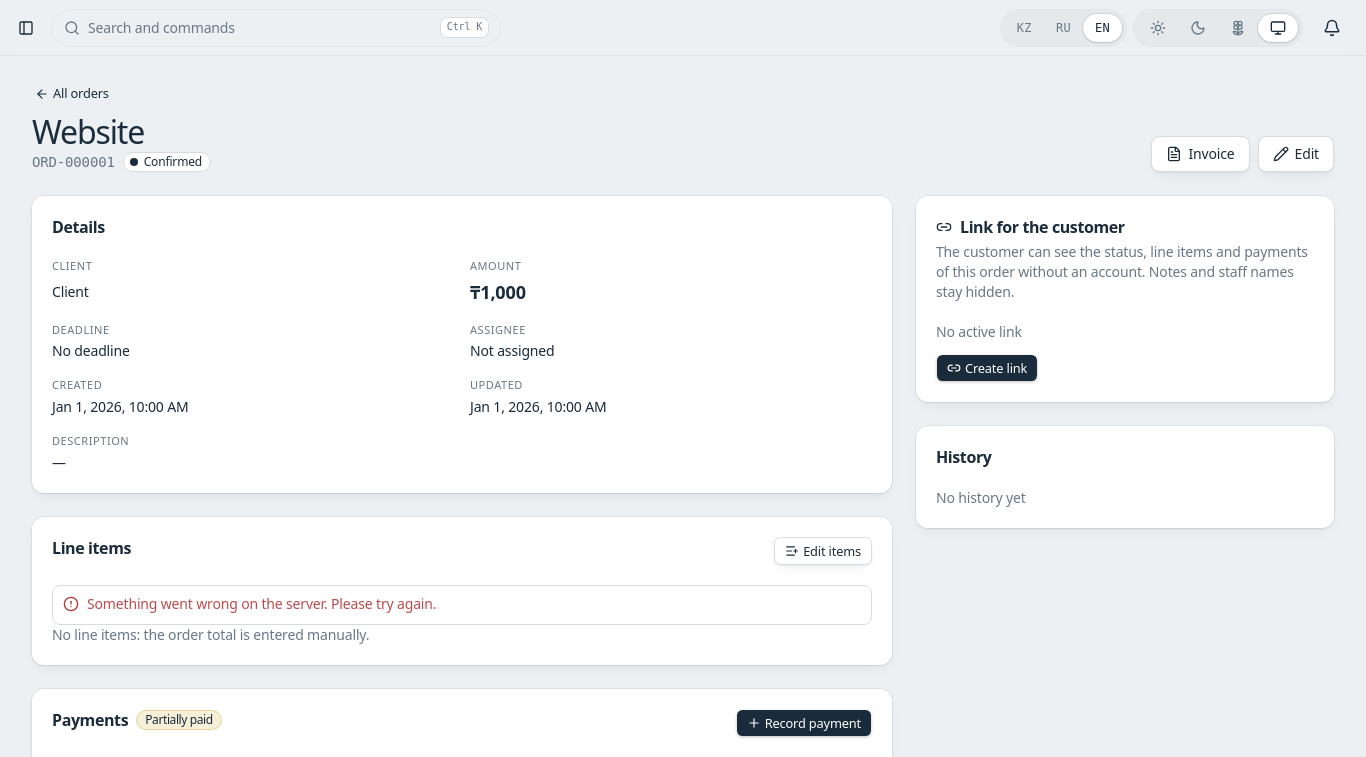
Scenario: payments on the order page › shows the translated overpayment error from the backend
The image size is (1366, 757).
Step 1. Click the button "Record payment" → (804,723), box [736,709,872,737]
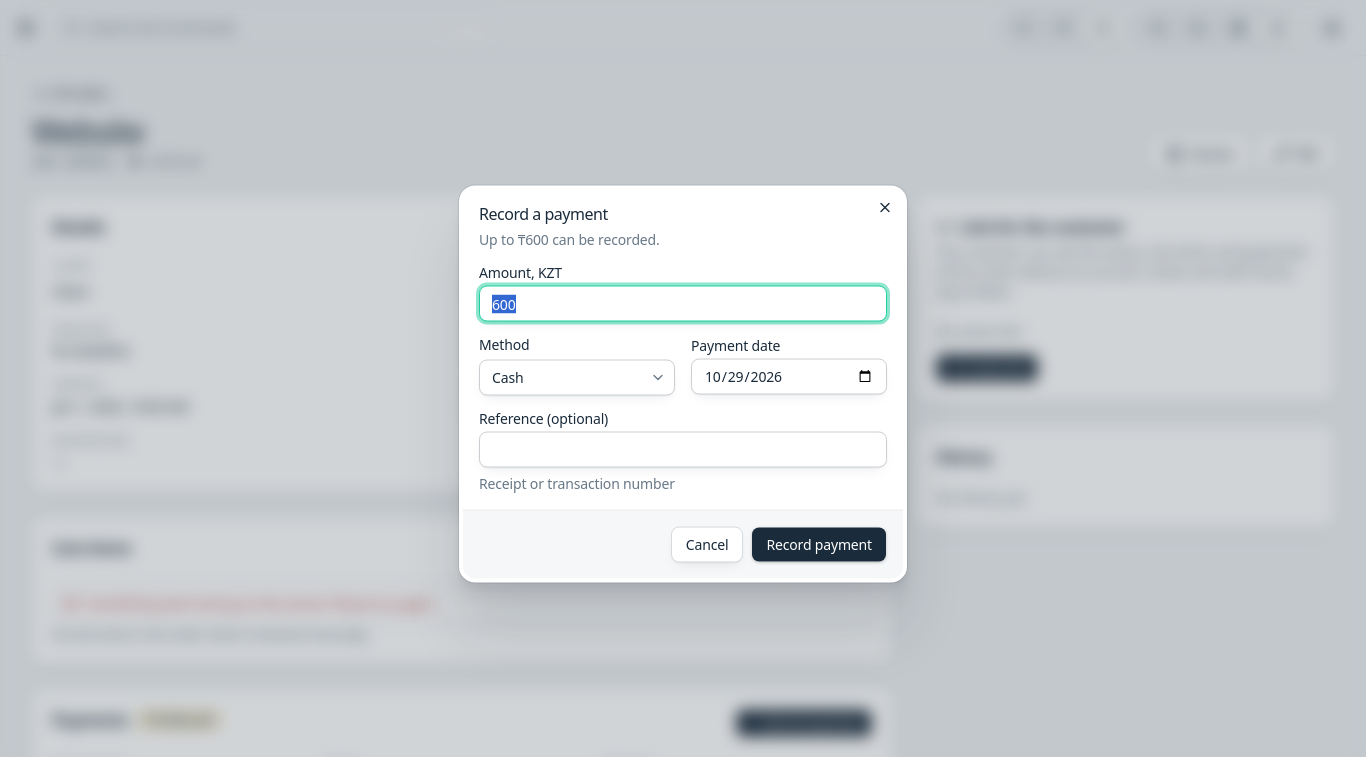
Step 2. Replace the text in the field labelled "Amount, KZT" with "700" → (683,304), box [479,286,887,322]
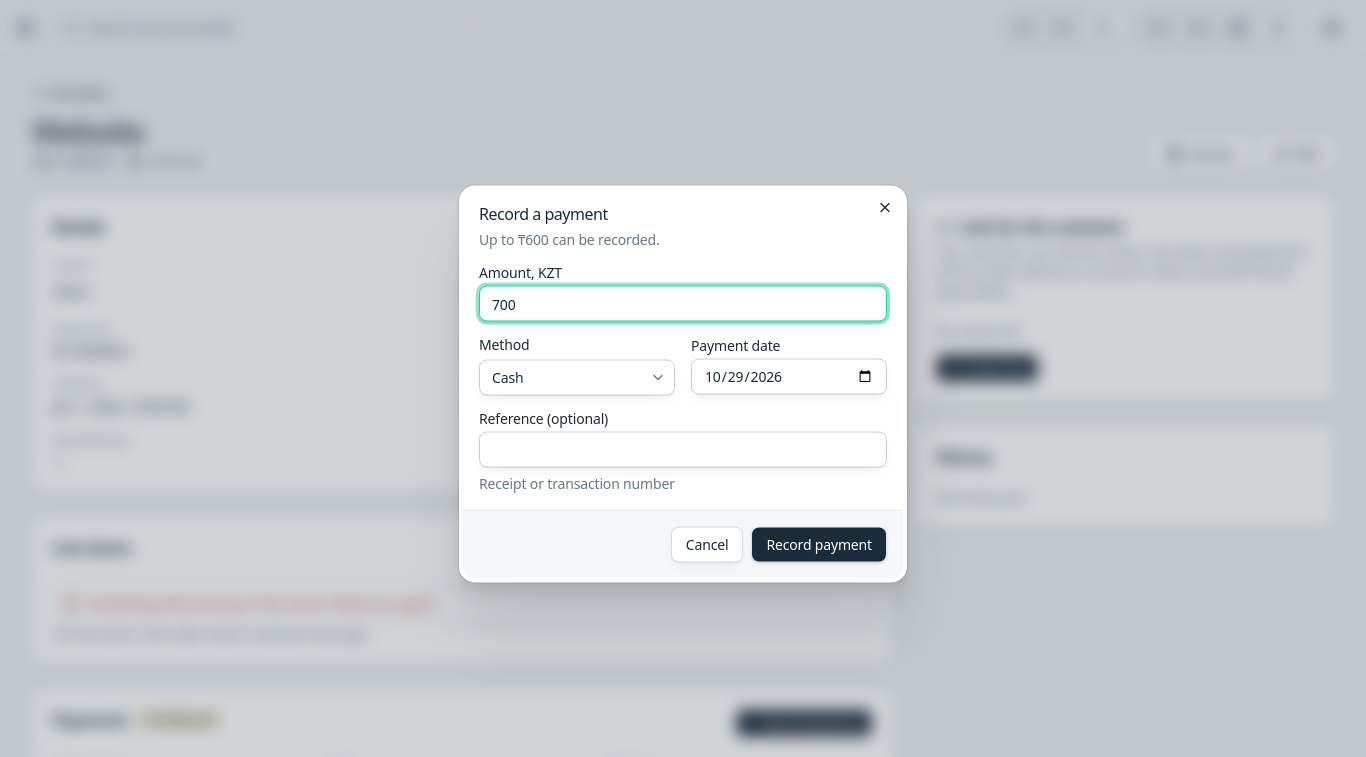
Step 3. Click the button "Record payment" → (819,544), box [751,526,887,562]
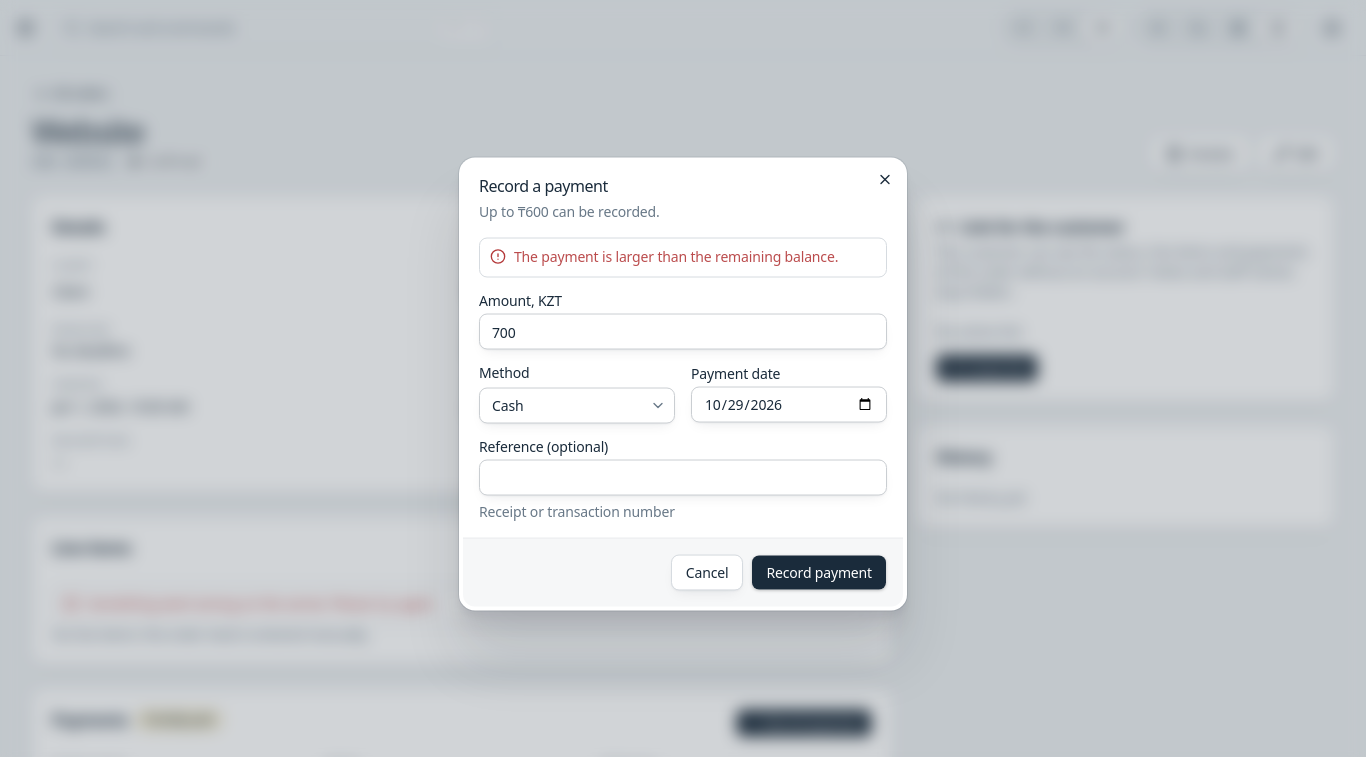
Expected: the text "The payment is larger than the remaining balance." is shown, [514,246,876,266]
